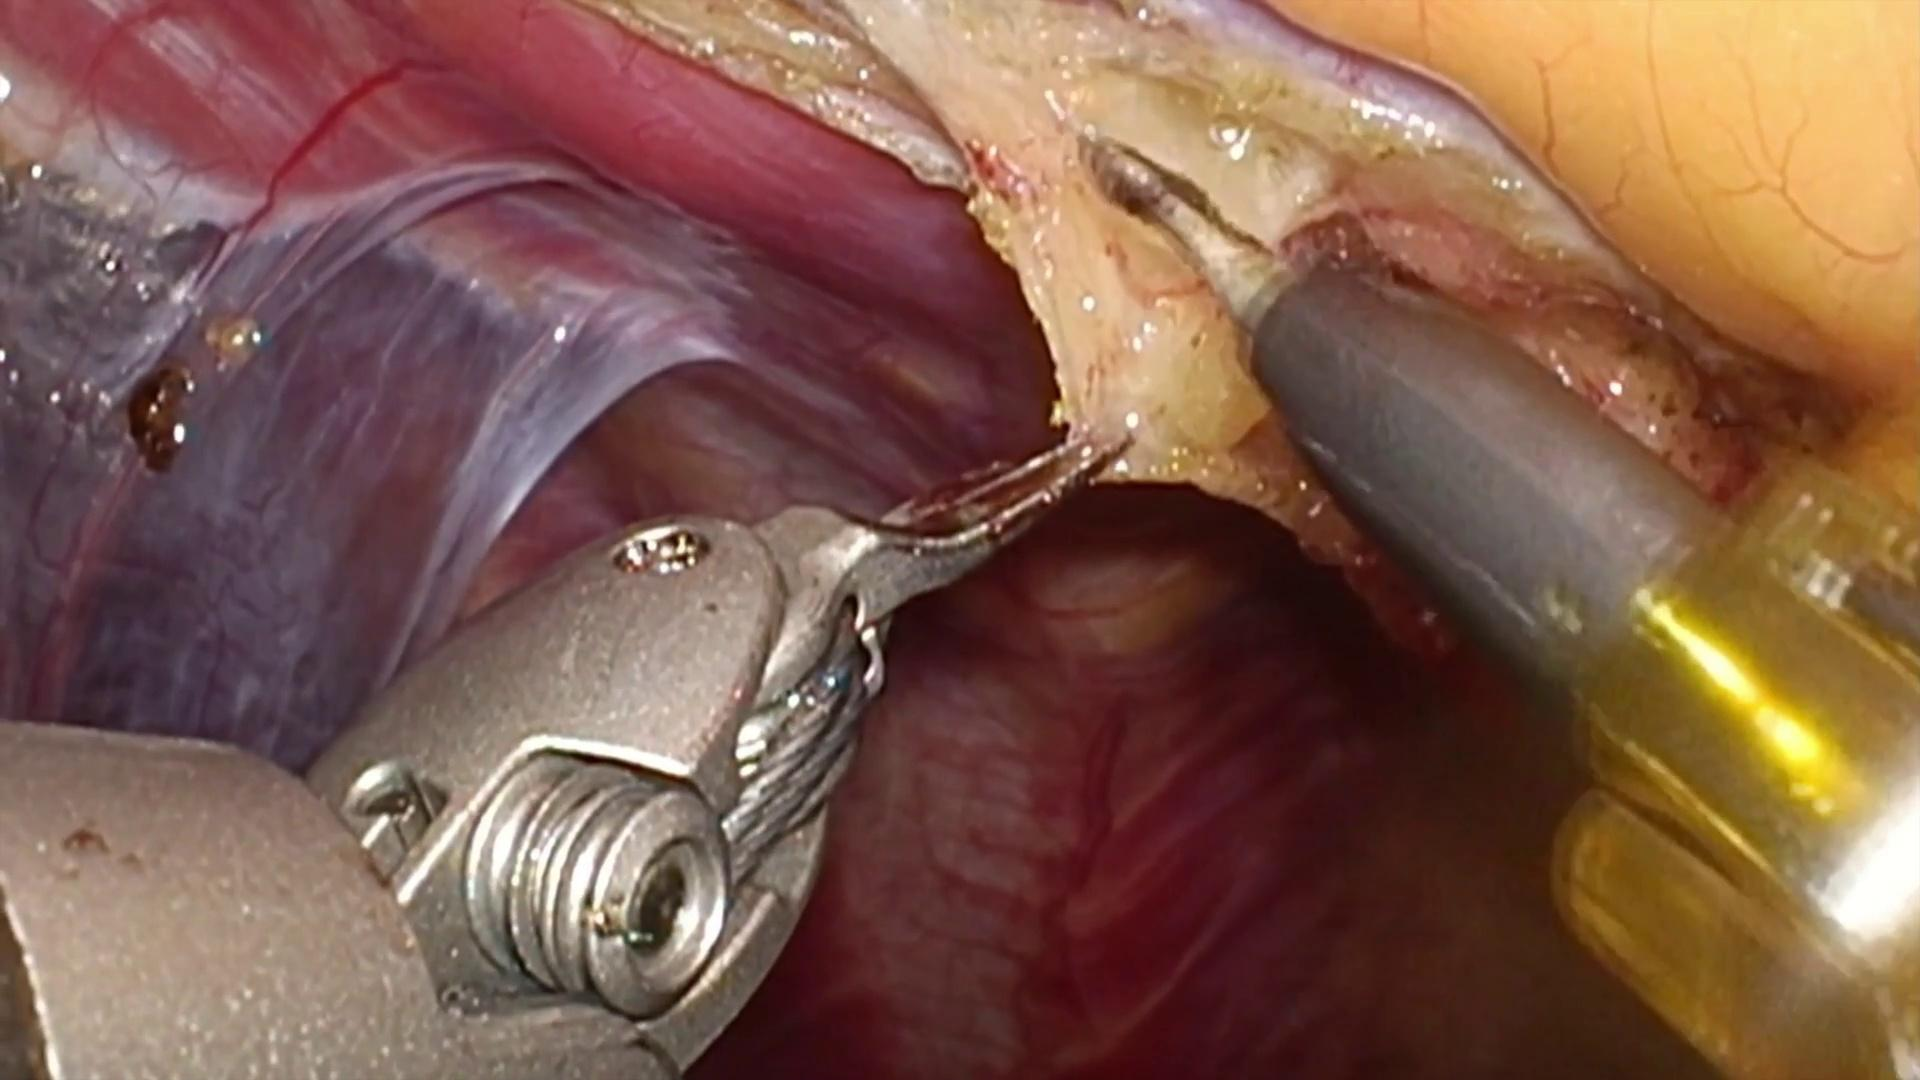Cautery_Spatula: (1080, 131, 1733, 699)
Debakey: (752, 368, 1127, 647)
